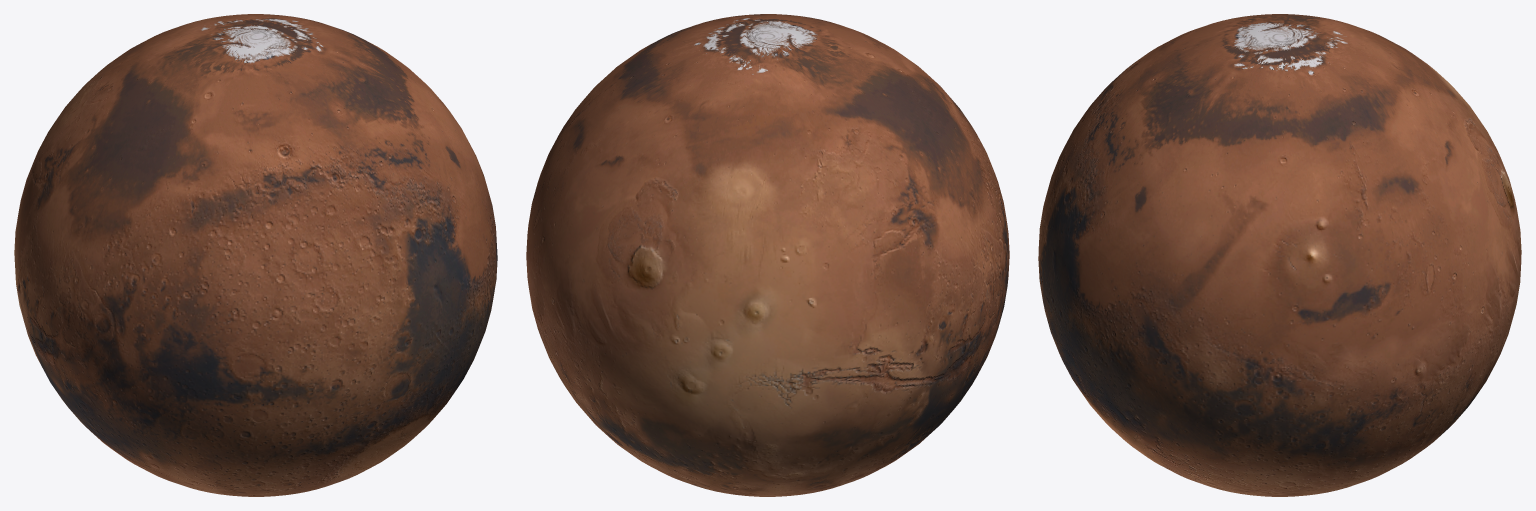
File: mars2.glb
3 views of the same model, side by side, from view 1: azimuth 30°, elevation 25°; view 2: azimuth 150°, elevation 25°; view 3: azimuth 270°, elevation 25° (orthographic).
Parts seen in each view (by area): view 1: Earth; view 2: Earth; view 3: Earth.
Boxes of the visible parts, x1,y1,x2,y2 form: Earth: [14, 14, 497, 496]; Earth: [526, 14, 1009, 496]; Earth: [1038, 14, 1521, 496].
Bounding box in the file's own units: 2 × 2 × 2.
1 material, 1 textured.
